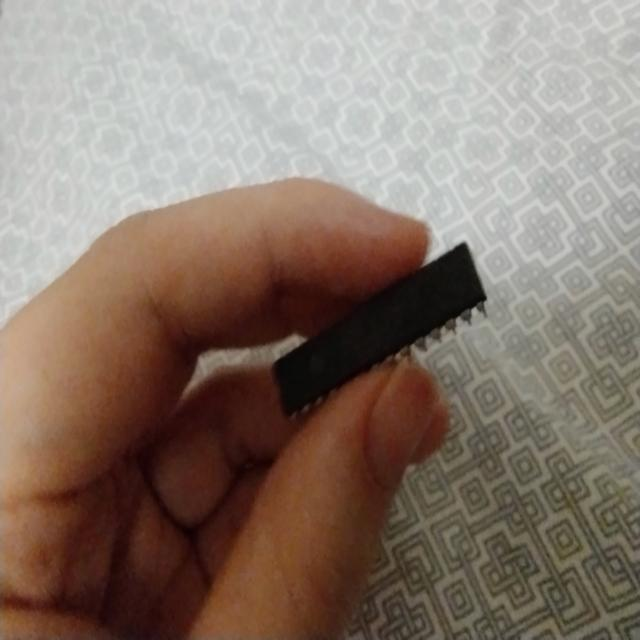atmega: (258, 232, 492, 422)
